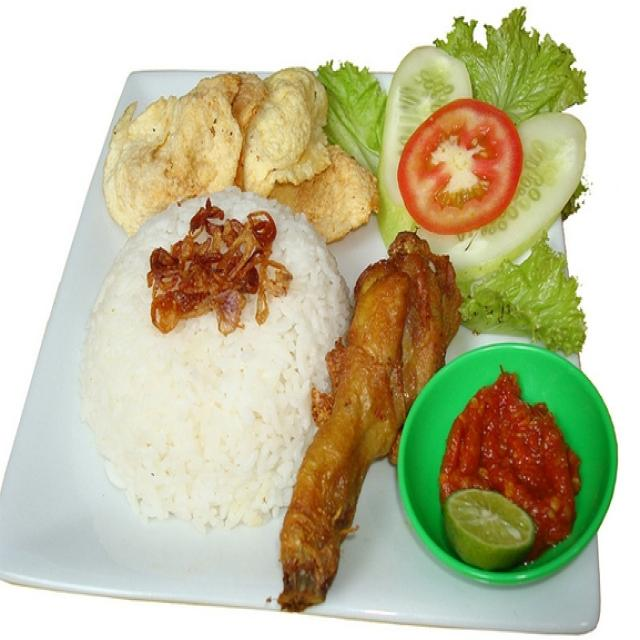米饭主食: (25, 7, 609, 621)
